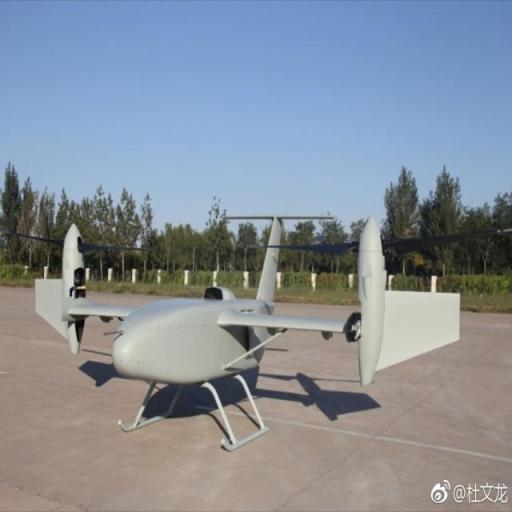uav: (37, 214, 465, 436)
